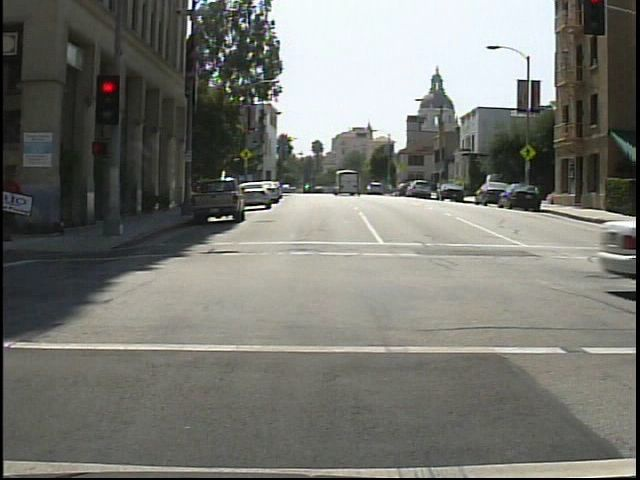person: (4, 158, 25, 244)
